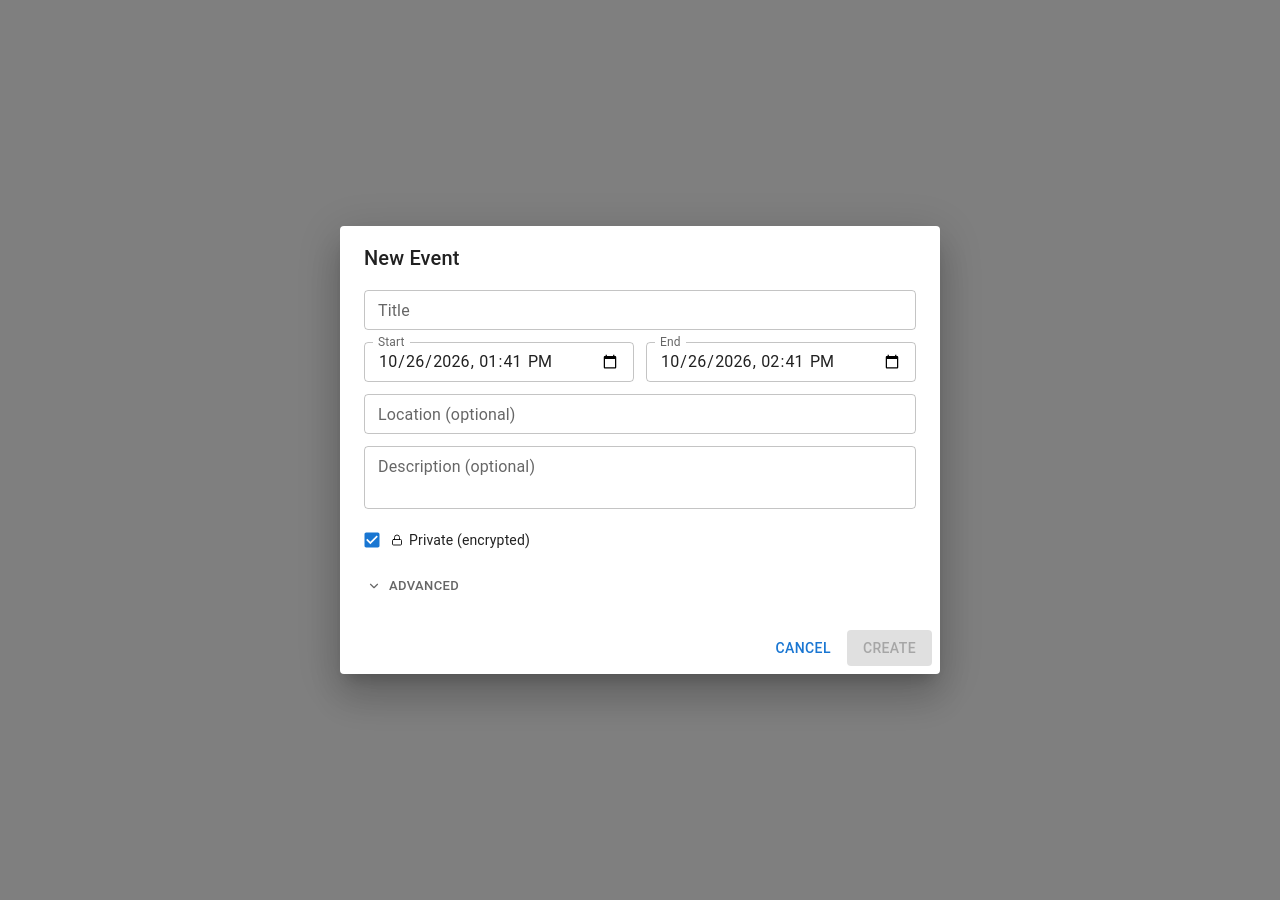
Test: EventDialog › reveals the recurrence selector under Advanced
The image size is (1280, 900).
Click the button "Advanced" at point(414, 586), box [364,571,464,602]
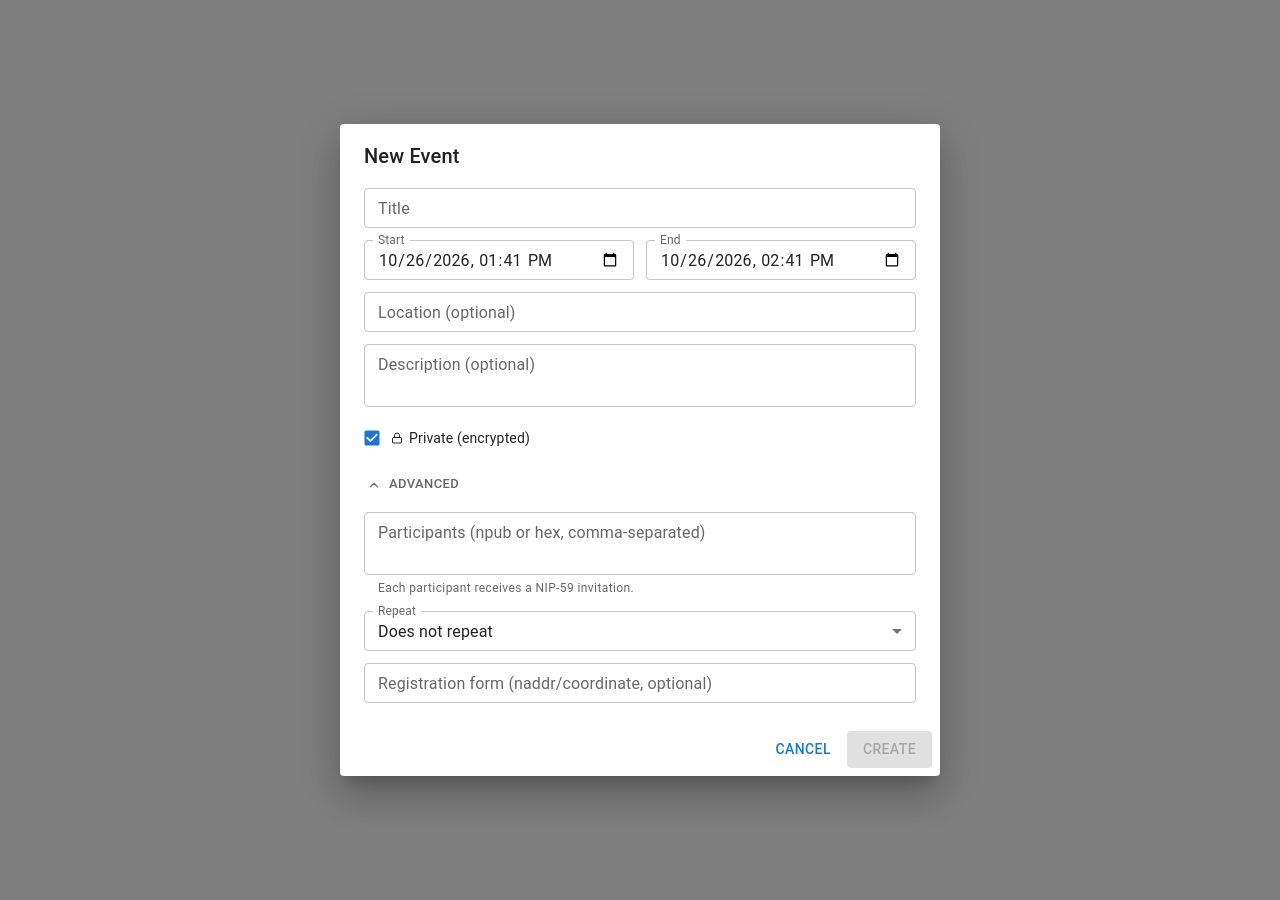
Now the dropdown "Does not repeat" is shown, box [378,622,493,640]
